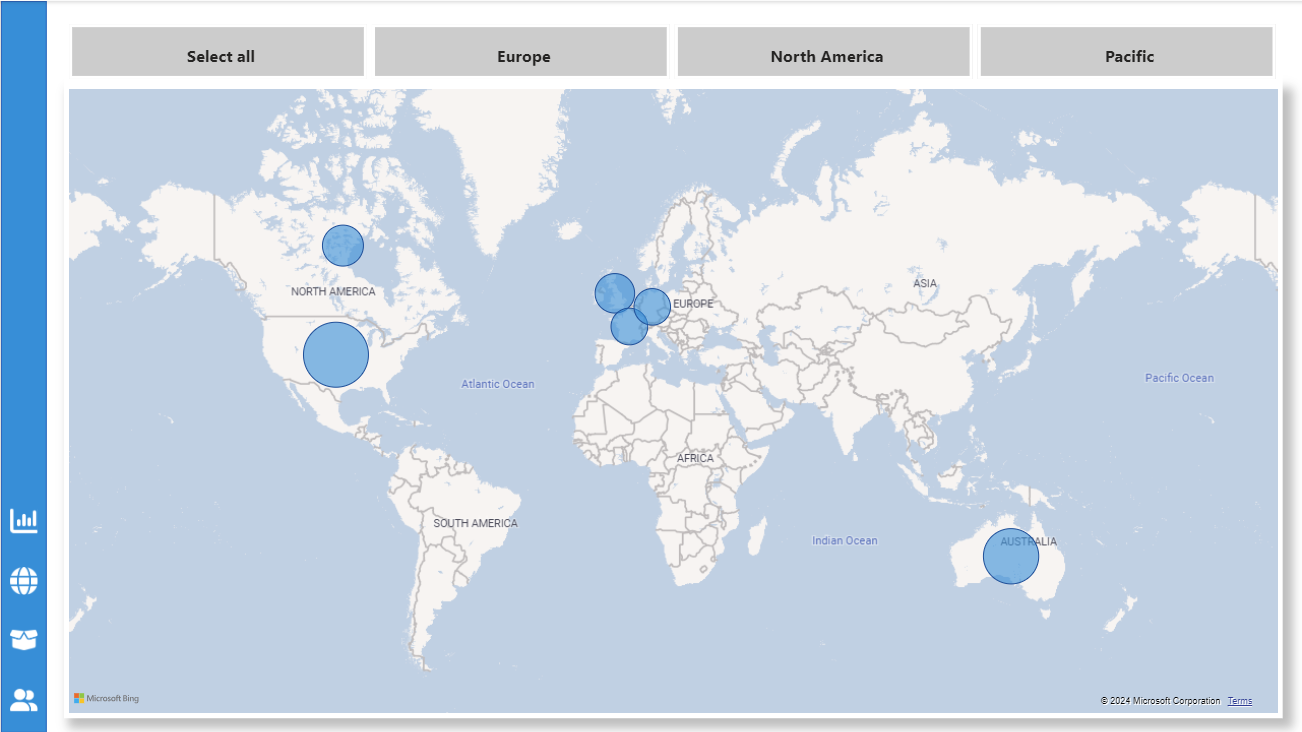

Layout of this report page (visuals, bound fields, positions):
{"tool":"powerbi","page":{"name":"Map","canvas":[1280,720],"ordinal":1},"visuals":[{"type":"shape","box":[0,0,45,720],"z":0},{"type":"actionButton","box":[4.9,493.9,35.4,35.4],"z":0,"group":"g1"},{"type":"actionButton","box":[4.9,552.6,35.4,35.4],"z":1000,"group":"g1"},{"type":"map","fields":{"Category":["TerritoryLookup.Country"],"Size":["Measure Table.Total Orders"]},"box":[61.7,81.9,1199.4,623.6],"z":1000},{"type":"advancedSlicerVisual","fields":{"Values":["TerritoryLookup.Continent"]},"box":[61.7,17.6,1199.4,64.3],"z":2000},{"type":"actionButton","box":[4.9,611.3,35.4,35.4],"z":2000,"group":"g1"},{"type":"actionButton","box":[4.9,670,35.4,35.4],"z":3000,"group":"g1"},{"type":"group","id":"g1","title":"Nav Buttons","box":[4.9,493.9,35.4,211.5],"z":3000}]}

Visuals, with their boxes on the page's 1280x720 design canvas (x1, y1, x2, y2). These are canvas units, not pixel positions in the 1302x732 screenshot, which may show the page scaled, cropped or inside an application window:
shape: 0 0 45 720
actionButton: 5 494 40 529
actionButton: 5 553 40 588
map - TerritoryLookup.Country x Measure Table.Total Orders: 62 82 1261 706
advancedSlicerVisual - TerritoryLookup.Continent: 62 18 1261 82
actionButton: 5 611 40 647
actionButton: 5 670 40 705
"Nav Buttons" group: 5 494 40 705
